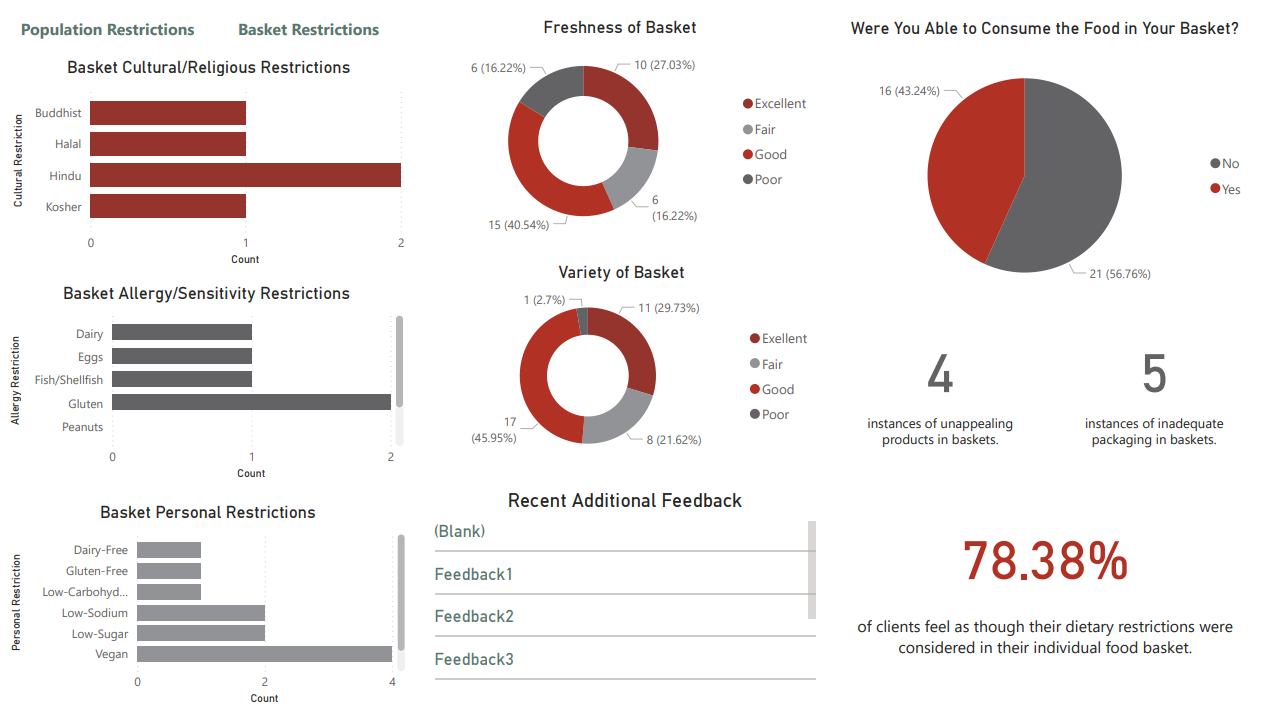

What the dashboard file says about the page in this screenshot:
{"tool":"powerbi","page":{"name":"Basket Feedback","canvas":[1280,720],"ordinal":0},"visuals":[{"type":"barChart","title":"Population Personal Restrictions","fields":{"Category":["GeneralPersonalRestrictions (2).Personal Restriction"],"Y":["Sum(GeneralPersonalRestrictions (2).Count)"]},"box":[10.6,497.7,403.7,213.1],"z":0},{"type":"barChart","title":"Population Allergy/Sensitivity Restrictions","fields":{"Category":["GeneralAllergies (2).Allergy Restriction"],"Y":["Sum(GeneralAllergies (2).Count)"]},"box":[9.4,279.1,403.4,206.4],"z":1000},{"type":"barChart","title":"Population Cultural/Religious Restrictions","fields":{"Category":["GeneralCultural (2).Cultural Restriction"],"Y":["Sum(GeneralCultural (2).Count)"]},"box":[10.6,54.3,403.7,214.4],"z":2000},{"type":"donutChart","title":"Freshness of Basket","fields":{"Y":["CountNonNull(FeedbackForm (2).Freshness_of_Basket)"],"Category":["FeedbackForm (2).Freshness_of_Basket"]},"box":[425.3,10.4,403,235.8],"z":6000},{"type":"donutChart","title":"Variety of Basket","fields":{"Y":["CountNonNull(FeedbackForm (2).Variety_of_Basket)"],"Category":["FeedbackForm (2).Variety_of_Basket"]},"box":[426.9,257.3,402.2,213.5],"z":7000},{"type":"multiRowCard","title":"Recent Additional Feedback","fields":{"Values":["FeedbackForm (2).Additional_Feedback"]},"box":[425.3,485.1,403,214.3],"z":8000},{"type":"pieChart","title":"Were You Able to Consume the Food in Your Basket?","fields":{"Category":["FeedbackForm (2).Consumption_of_Food_in_Basket"],"Y":["CountNonNull(FeedbackForm (2).Consumption_of_Food_in_Basket)"]},"box":[843.3,10.9,421.7,302.9],"z":9000},{"type":"textbox","box":[843.9,408.8,209.3,61.3],"z":10000},{"type":"textbox","box":[1062,408.8,203.4,62.3],"z":11000},{"type":"card","fields":{"Values":["Sum(Counts (2).Unappealing Products)"]},"box":[844,322.5,209.1,86.7],"z":12000},{"type":"card","fields":{"Values":["Sum(Counts (2).Inadequate Packaging)"]},"box":[1062,322.5,202.7,86.7],"z":13000},{"type":"card","fields":{"Values":["Sum(ConsiderRestrictions (2).PercentYes)"]},"box":[844.3,497.4,419.7,114.8],"z":14000},{"type":"textbox","box":[844,612,420.7,98.2],"z":15000},{"type":"actionButton","title":"Population Restrictions","box":[10.6,10.6,200.5,30.5],"z":16000},{"type":"actionButton","title":"Basket Restrictions","box":[213.4,10.6,200.5,30.5],"z":17000}]}

Visuals, with their boxes in screenshot pixels (x1, y1, x2, y2), scaled from the page's 1280x720 canvas onto the 1266x721 screenshot:
"Population Personal Restrictions" barChart: l=10, t=498, r=410, b=712
"Population Allergy/Sensitivity Restrictions" barChart: l=9, t=279, r=408, b=486
"Population Cultural/Religious Restrictions" barChart: l=10, t=54, r=410, b=269
"Freshness of Basket" donutChart: l=421, t=10, r=819, b=247
"Variety of Basket" donutChart: l=422, t=258, r=820, b=471
"Recent Additional Feedback" multiRowCard: l=421, t=486, r=819, b=700
"Were You Able to Consume the Food in Your Basket?" pieChart: l=834, t=11, r=1251, b=314
textbox: l=835, t=409, r=1042, b=471
textbox: l=1050, t=409, r=1252, b=472
card - Sum(Counts (2).Unappealing Products): l=835, t=323, r=1042, b=410
card - Sum(Counts (2).Inadequate Packaging): l=1050, t=323, r=1251, b=410
card - Sum(ConsiderRestrictions (2).PercentYes): l=835, t=498, r=1250, b=613
textbox: l=835, t=613, r=1251, b=711
"Population Restrictions" actionButton: l=10, t=11, r=209, b=41
"Basket Restrictions" actionButton: l=211, t=11, r=409, b=41
